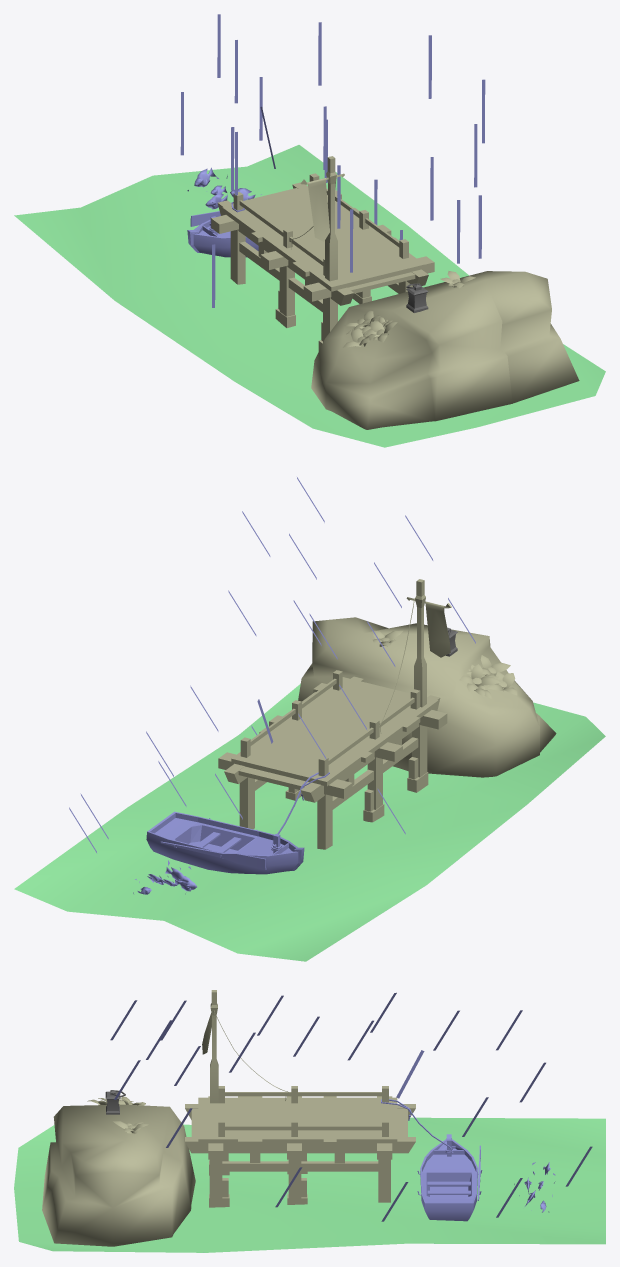
Rendered from nght.FBX.fbx.
The picture shows the model from 3 angles, top to bottom: view 1: azimuth 30°, elevation 25°; view 2: azimuth 150°, elevation 25°; view 3: azimuth 270°, elevation 25°; orthographic projection. The views are drawn at different scales.
Visible parts, largest first — view 1: Bridge_Lamp_Stone, T_Sea, Boat002; view 2: T_Sea, Bridge_Lamp_Stone, Boat002; view 3: T_Sea, Bridge_Lamp_Stone, Boat002.
Part boxes in pixels (left/top/right/bottom): Bridge_Lamp_Stone: left=211, top=156, right=579, bottom=429; T_Sea: left=14, top=145, right=605, bottom=447; Boat002: left=180, top=14, right=485, bottom=307; T_Sea: left=14, top=684, right=605, bottom=961; Bridge_Lamp_Stone: left=218, top=579, right=556, bottom=849; Boat002: left=69, top=477, right=475, bottom=894; T_Sea: left=14, top=1117, right=605, bottom=1252; Bridge_Lamp_Stone: left=42, top=990, right=415, bottom=1246; Boat002: left=110, top=992, right=592, bottom=1252.
Bounding box in the file's own units: 128 × 112 × 242.
